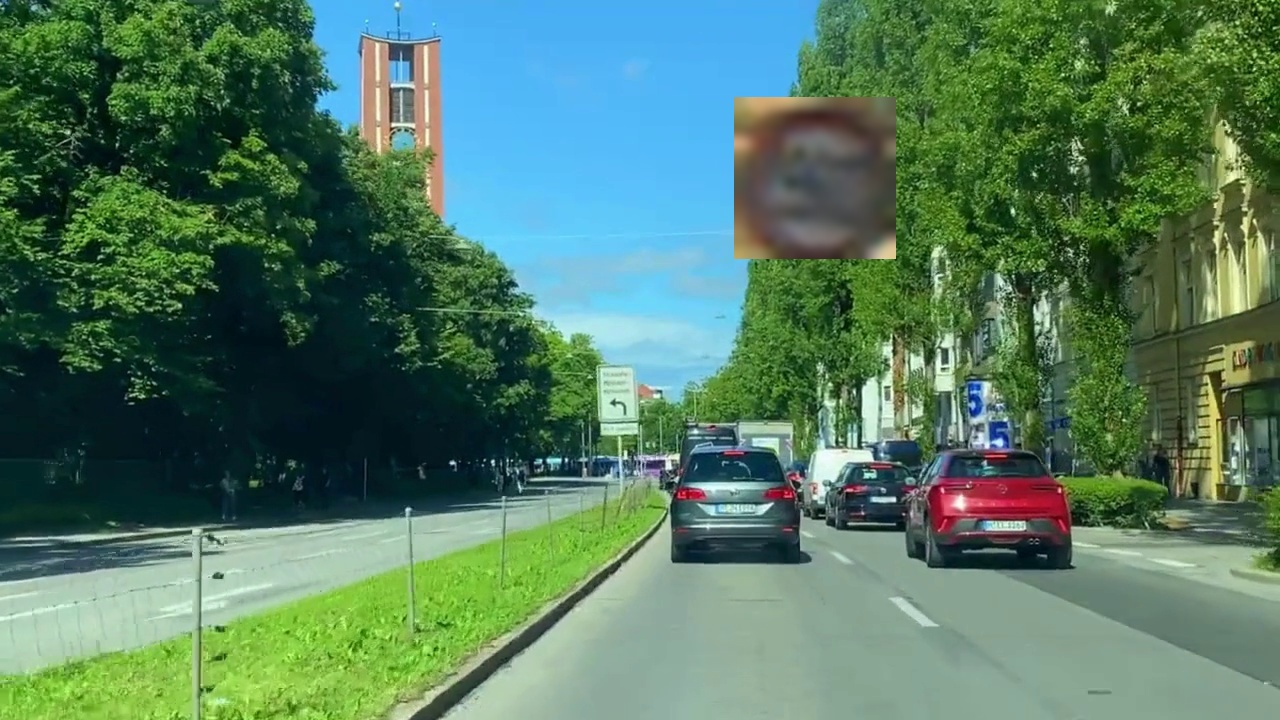Speed 50: (734, 97, 896, 259)
